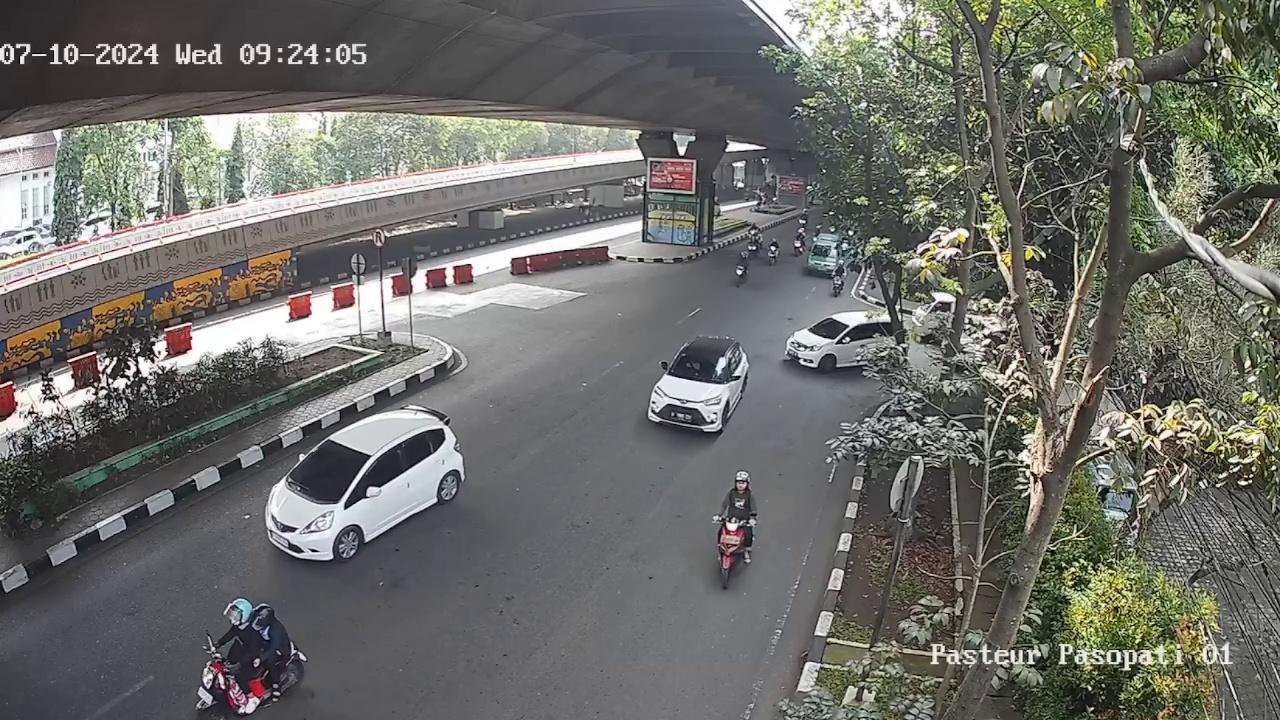pakai: (686, 359, 701, 372)
windshield: (290, 439, 372, 494), (666, 347, 736, 383), (811, 319, 849, 341)
